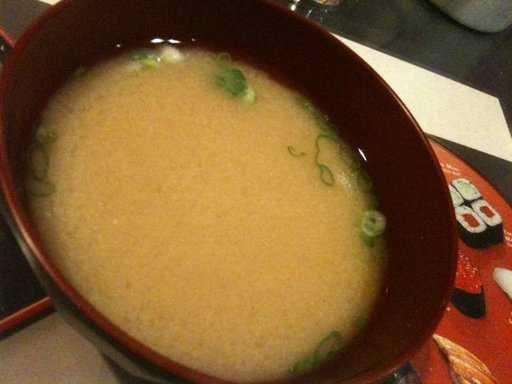soup: (25, 35, 412, 361)
